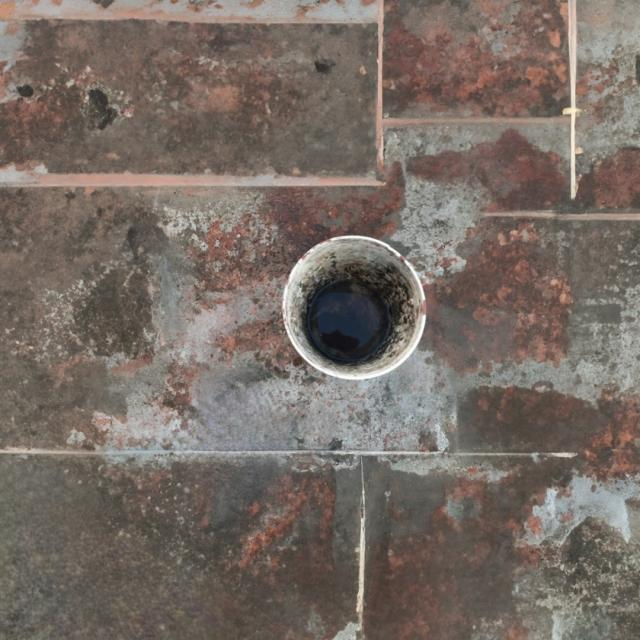Breeding Place: (274, 213, 455, 412)
